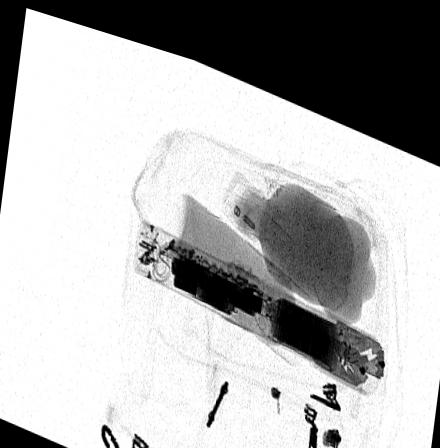Baton: (130, 208, 387, 374)
